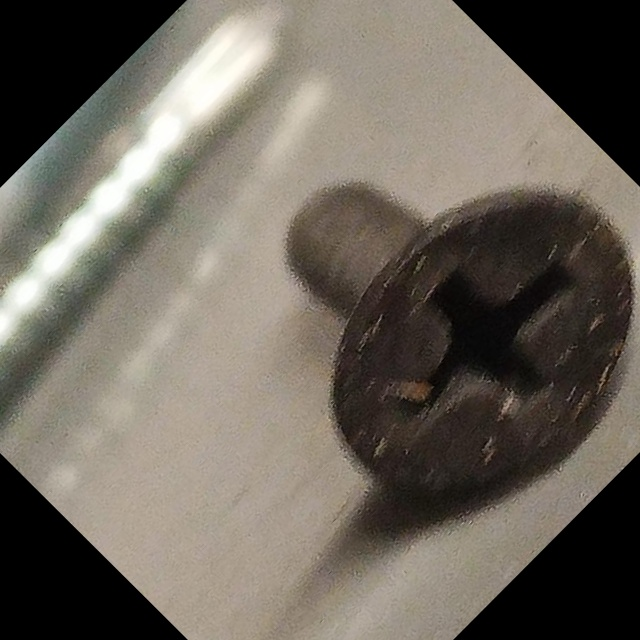phillips: (265, 130, 640, 563)
